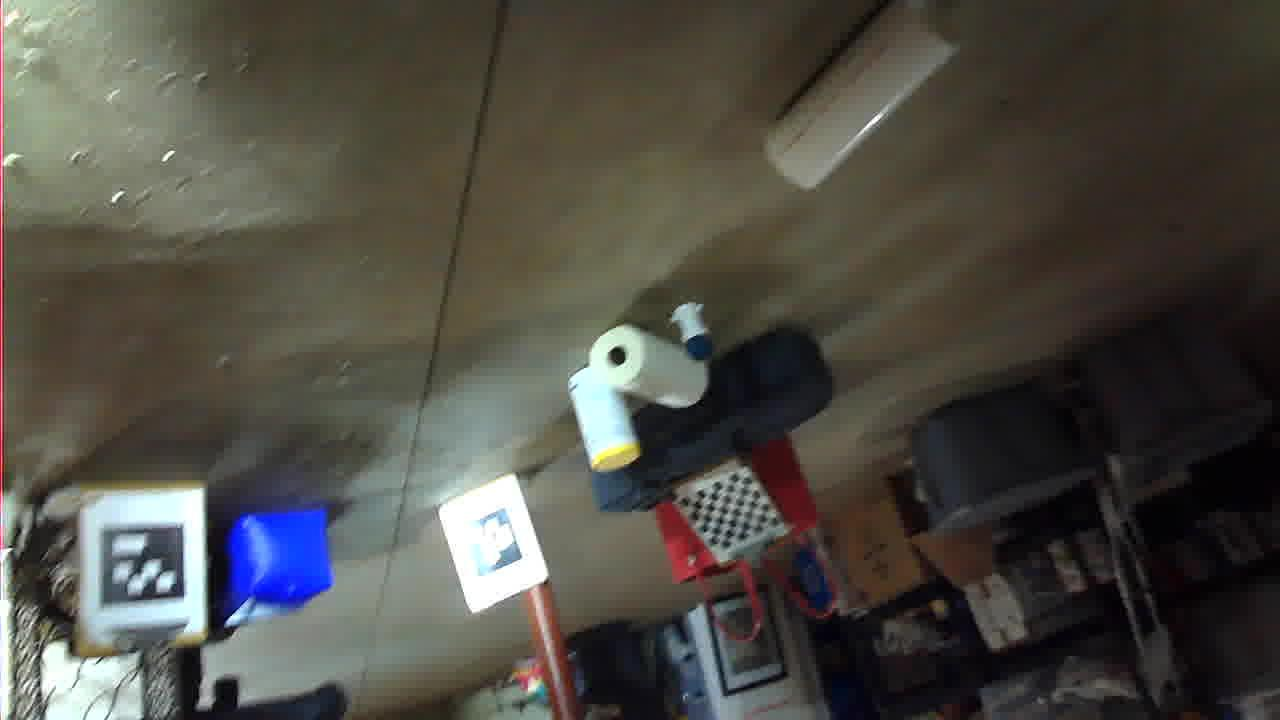coral: (325, 530, 514, 718)
